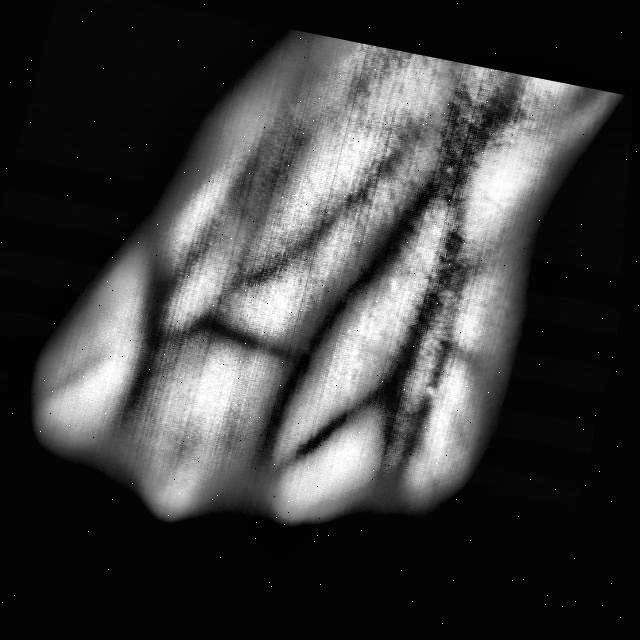Vein: (289, 160, 454, 375)
